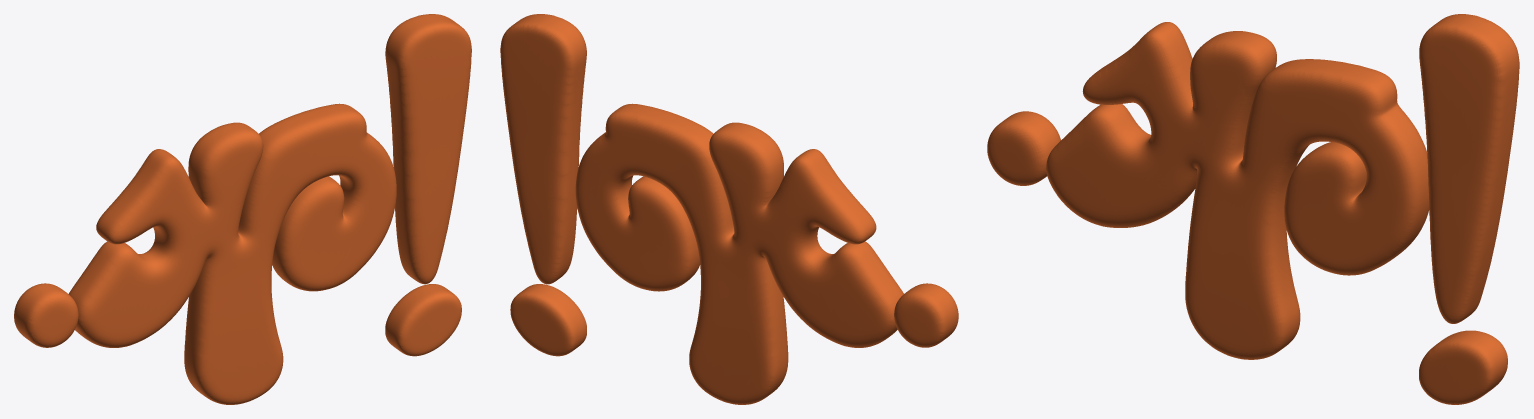
Rendered from syp-3.gltf.
The picture shows the model from 3 angles, left to right: view 1: azimuth 30°, elevation 25°; view 2: azimuth 150°, elevation 25°; view 3: azimuth 330°, elevation 25°; orthographic projection. The views are drawn at different scales.
Visible parts, largest first — view 1: Curve; view 2: Curve; view 3: Curve.
Part boxes in pixels (x1,y1,x2,y2): Curve: (14,14,471,404); Curve: (500,14,958,404); Curve: (987,14,1519,404).
Size of the model in its own units: 12.91 by 9.21 by 1.1.
